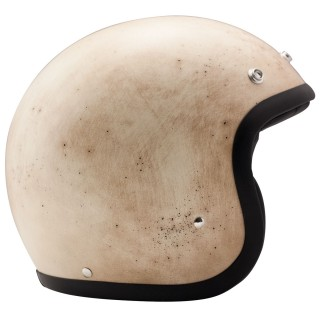with_helmet: (9, 15, 314, 300)
